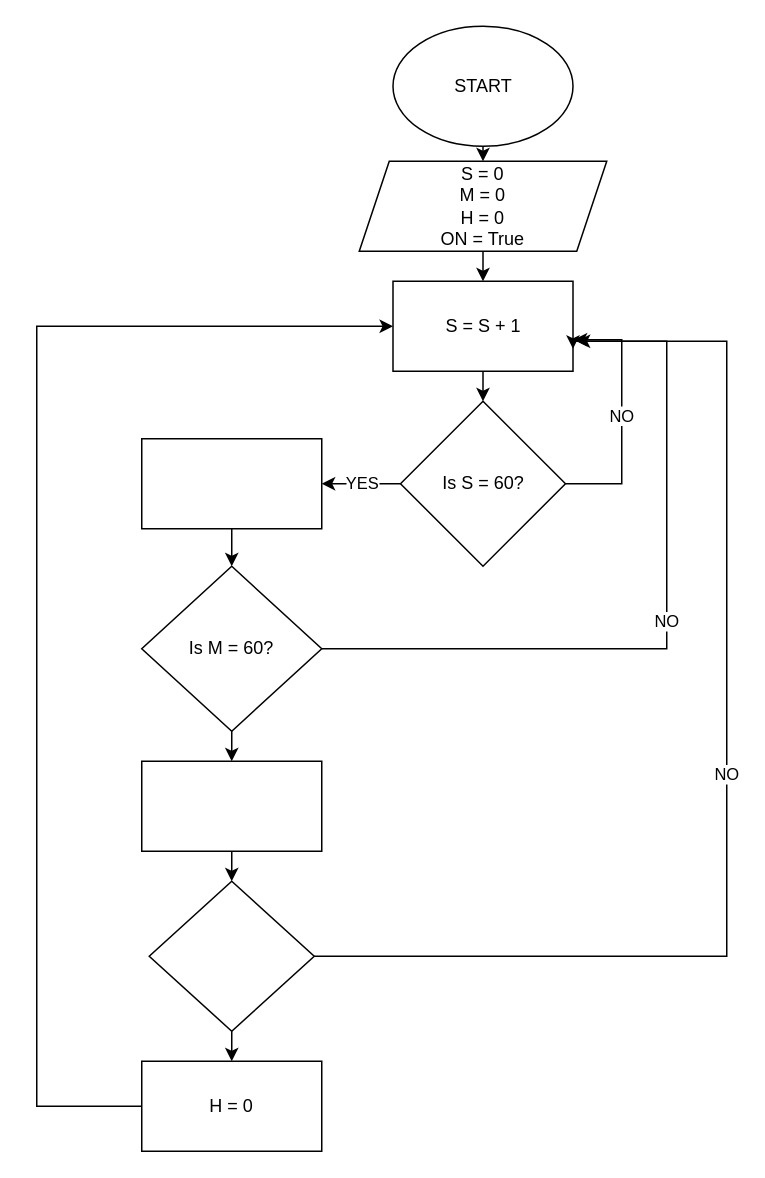
This 765x1178 diagram has some shape labels left out. Here are the shapes that lost their labels. From the top down, the box of each, then its label:
(140, 437, 322, 529): S = 0 M = M + 1
(140, 760, 322, 851): M = 0 H = H + 1
(148, 880, 314, 1031): Is H = 24?
